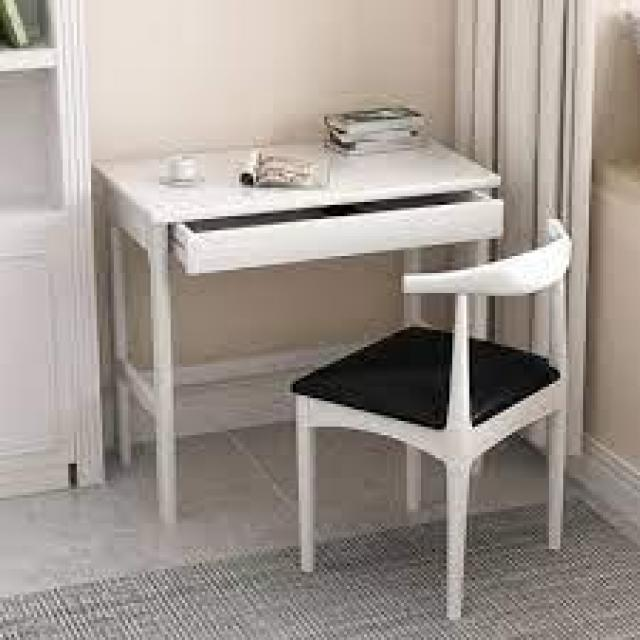desk: (88, 78, 598, 608)
